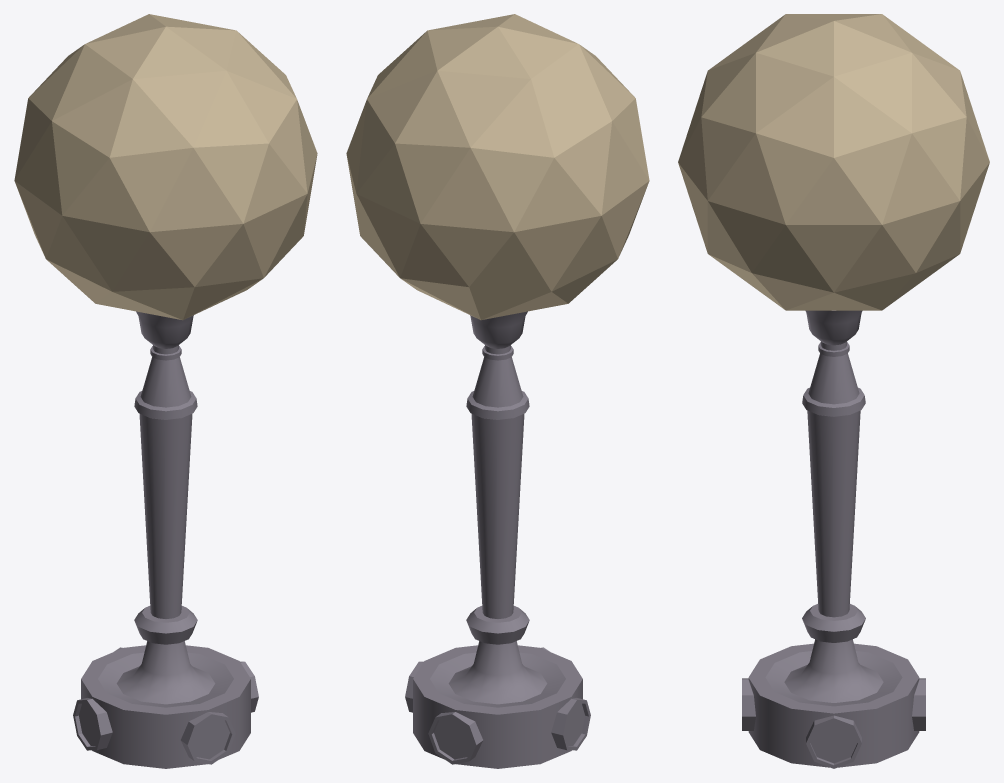
File: SM_standLamp.fbx
3 renders of one model, left to right at view 1: azimuth 30°, elevation 25°; view 2: azimuth 150°, elevation 25°; view 3: azimuth 270°, elevation 25°, orthographic.
Parts seen in each view (by area): view 1: Circle.001; view 2: Circle.001; view 3: Circle.001.
Boxes of the visible parts, x1,y1,x2,y2 form: Circle.001: [14, 14, 317, 768]; Circle.001: [346, 14, 649, 768]; Circle.001: [678, 14, 989, 768].
Size of the model in its own units: 43.29 by 114 by 45.52.
